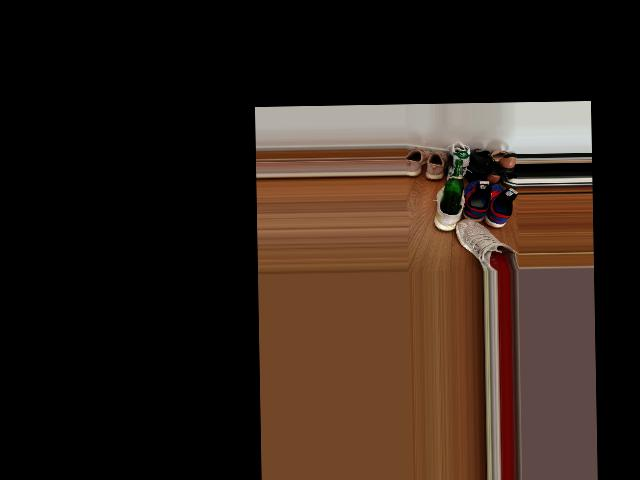beer: (440, 160, 464, 215)
